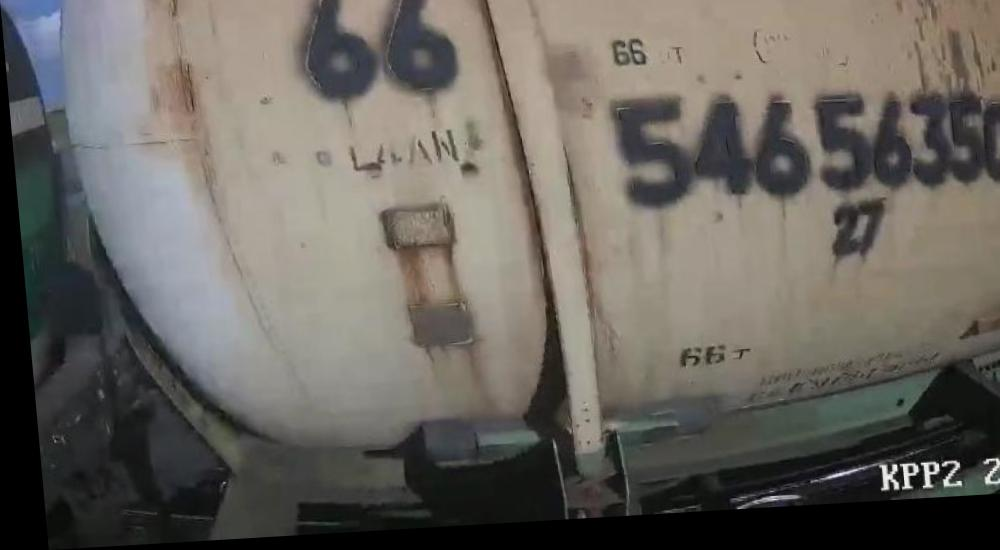Wagon-number: (604, 87, 1000, 219)
